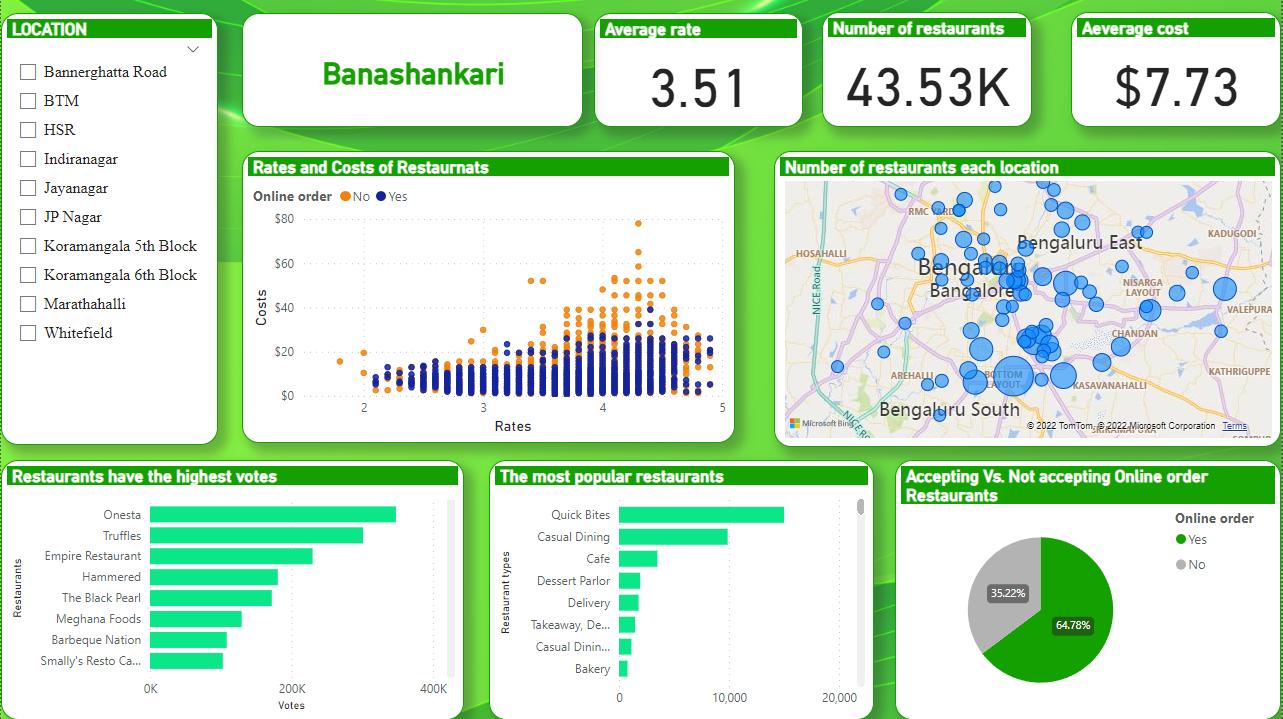

The page's visual inventory and layout, read from the dashboard file:
{"tool":"powerbi","page":{"name":"Page 1","canvas":[1280,720],"ordinal":0},"visuals":[{"type":"map","title":"Number of restaurants each location","fields":{"Y":["bangalore_map.latitude"],"X":["bangalore_map.longitude"],"Size":["Sum(bangalore_map.Restaurant Count)"],"Category":["bangalore_map.location"]},"box":[773.3,151.1,506.7,296.3],"z":0},{"type":"slicer","title":"LOCATION","fields":{"Values":["zomato_bi.location"]},"box":[0,12.8,217.3,432.6],"z":1000},{"type":"clusteredBarChart","title":"The most popular restaurants","fields":{"Category":["zomato_bi.rest_type"],"Y":["CountNonNull(zomato_bi.rest_type)"]},"box":[487.9,460.2,385.2,259.8],"z":2000},{"type":"pieChart","title":"Accepting Vs. Not accepting Online order Restaurants","fields":{"Y":["CountNonNull(zomato_bi.online_order)"],"Category":["zomato_bi.online_order"]},"box":[893.8,460.2,386.2,259.8],"z":3000},{"type":"scatterChart","title":"Rates and Costs of Restaurnats","fields":{"X":["Sum(zomato_bi.rate)"],"Series":["zomato_bi.online_order"],"Y":["zomato_bi.cost (usd)"]},"box":[241,151.1,492.8,292.3],"z":4000},{"type":"card","title":"Average rate","fields":{"Values":["Avg(zomato_bi.rate)"]},"box":[592.6,12.8,209.4,114.6],"z":5000},{"type":"card","title":"Number of restaurants","fields":{"Values":["CountNonNull(zomato_bi.name)"]},"box":[820.7,11.9,210.4,115.6],"z":6000},{"type":"card","title":"Aeverage cost","fields":{"Values":["Avg(zomato_bi.cost (usd))"]},"box":[1069.6,11.9,210.4,115.6],"z":7000},{"type":"card","fields":{"Values":["Min(zomato_bi.location)"]},"box":[241,12.8,340.7,114.6],"z":8000},{"type":"barChart","title":"Restaurants have the highest votes","fields":{"Category":["zomato_bi.name"],"Y":["Sum(zomato_bi.votes)"]},"box":[0,460.2,463.2,259.8],"z":9000}]}

Visuals, with their boxes in screenshot pixels (x1, y1, x2, y2), scaled from the page's 1280x720 canvas onto the 1283x719 screenshot:
"Number of restaurants each location" map: locate(775, 151, 1282, 447)
"LOCATION" slicer: locate(0, 13, 218, 445)
"The most popular restaurants" clusteredBarChart: locate(489, 460, 875, 718)
"Accepting Vs. Not accepting Online order Restaurants" pieChart: locate(896, 460, 1282, 718)
"Rates and Costs of Restaurnats" scatterChart: locate(242, 151, 736, 443)
"Average rate" card: locate(594, 13, 804, 127)
"Number of restaurants" card: locate(823, 12, 1034, 127)
"Aeverage cost" card: locate(1072, 12, 1282, 127)
card - Min(zomato_bi.location): locate(242, 13, 583, 127)
"Restaurants have the highest votes" barChart: locate(0, 460, 464, 718)
